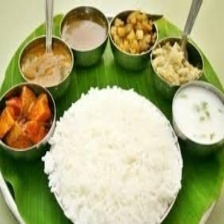dal: (59, 4, 107, 54)
